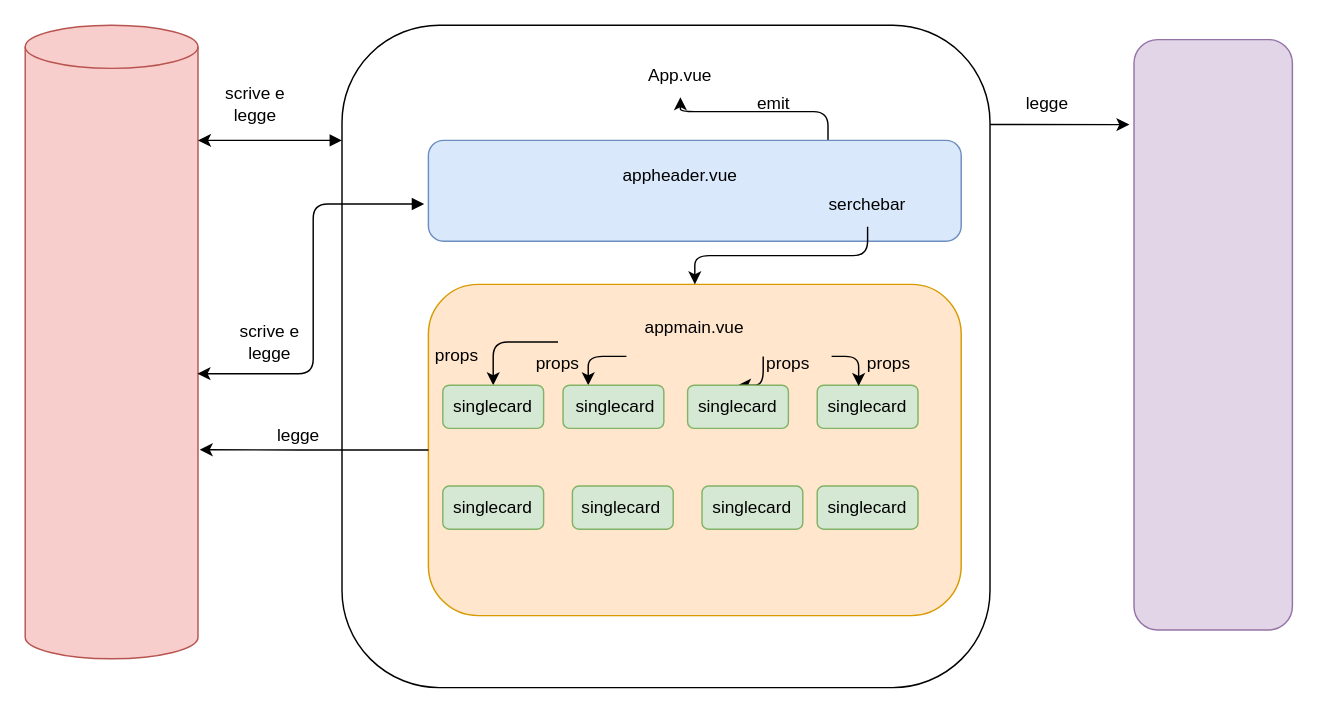
Some shapes in this 1318 by 713 pixel diagram are drawn without their labels. The shapes that lost their labels are listed below. From the top down, each one's centre as x and y in pixels, then its label:
the point at 111,341: store.js
the point at 1212,334: Api
